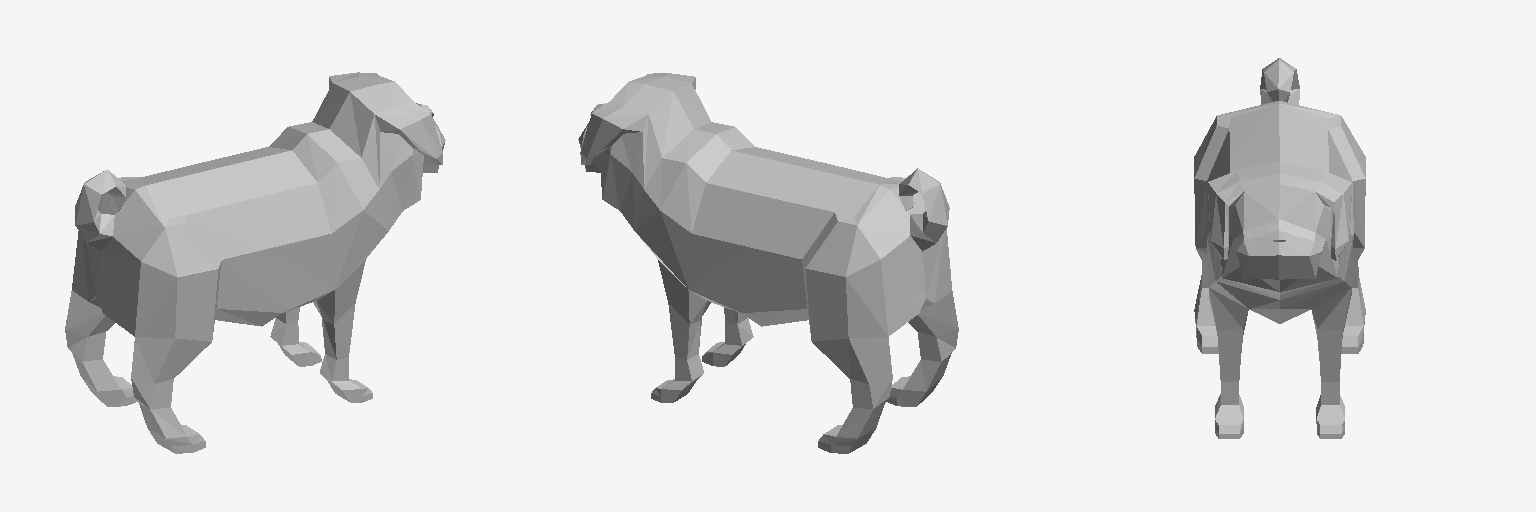
File: Pug.obj
3 renders of one model, left to right at view 1: azimuth 30°, elevation 25°; view 2: azimuth 150°, elevation 25°; view 3: azimuth 270°, elevation 25°, orthographic.
Bounding box in the file's own units: 2.63 × 1.98 × 1.09.